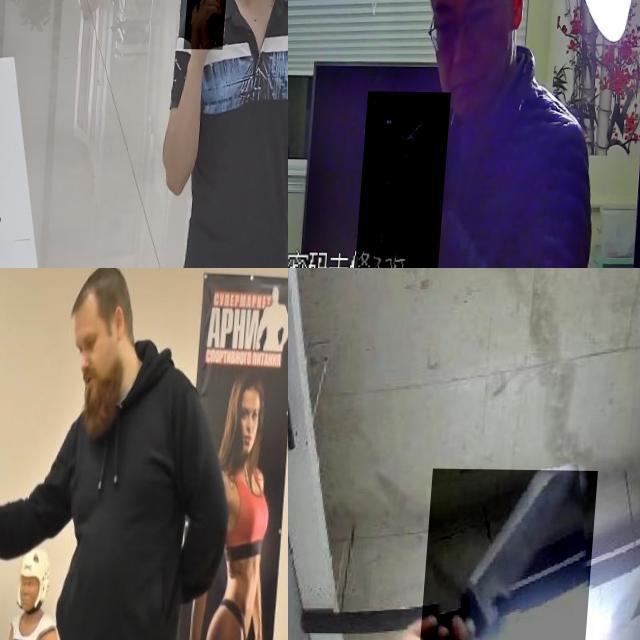-: (430, 467, 605, 640), (0, 467, 22, 614)
gun-knife-thesis - v11 Yolov5 augmented: (363, 90, 457, 268), (188, 0, 236, 74)
